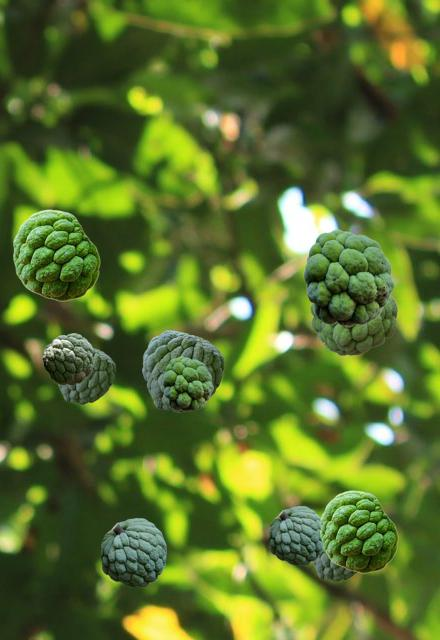atis: (303, 229, 393, 325), (13, 209, 99, 300), (142, 330, 223, 411), (320, 490, 397, 572), (310, 294, 396, 354), (101, 518, 165, 586), (58, 347, 114, 403), (269, 506, 322, 564), (162, 356, 212, 410), (42, 333, 92, 384), (312, 551, 356, 580)
